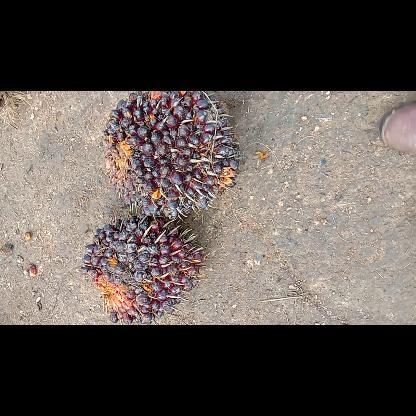Kurang masak: (98, 90, 242, 220), (76, 212, 206, 324)
